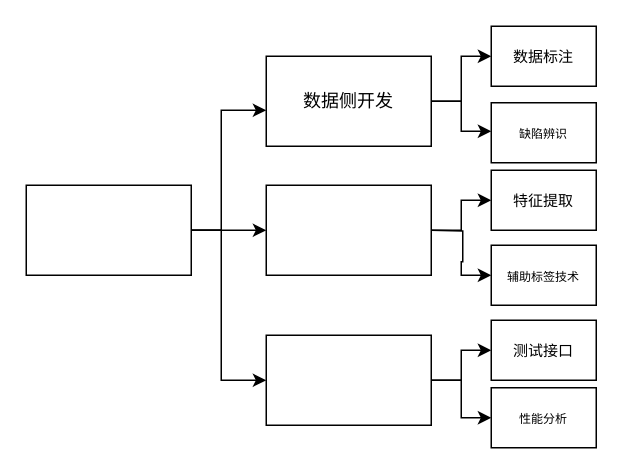
The diagram is 623 pixels wide and 474 high, and some of its shapes have lost their labels. The centre of each missing label's shape, as x and y in pixels:
模型侧开发: [348,229]
测试侧开发: [348,379]
缺陷模型检测算法: [108,229]
